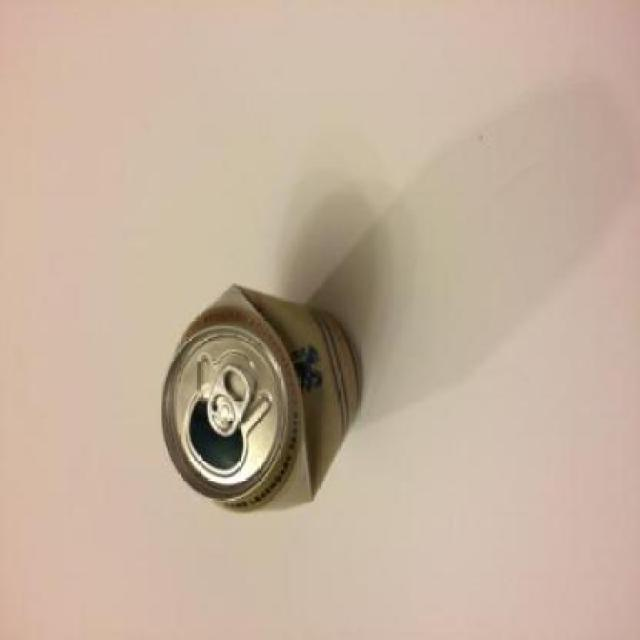METAL: (158, 280, 359, 512)
